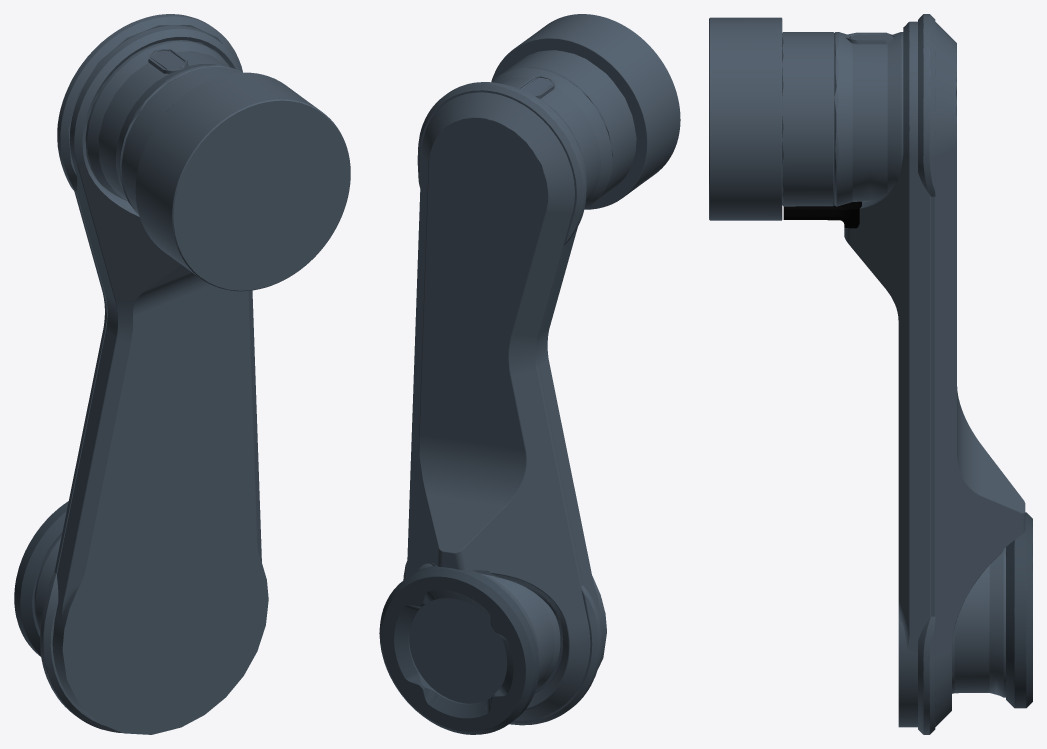
Rendered from hl_hipy.dae.
3 renders of one model, left to right at view 1: azimuth 30°, elevation 25°; view 2: azimuth 150°, elevation 25°; view 3: azimuth 270°, elevation 25°, orthographic. The views are drawn at different scales.
Visible parts, largest first — view 1: 移动面1, 倒角4, 切除-拉伸49 (×2), Mesh, 圆角25, 圆角2; view 2: Mesh, 圆角2, 倒角4, 切除-拉伸51, 切除-拉伸49 (×2), 圆角25, 移动面1; view 3: Mesh, 移动面1, 切除-拉伸49 (×2), 倒角4, 圆角25, 圆角2, 凸台-拉伸1.
Part boxes in pixels (x1,y1,x2,y2): 移动面1: [52, 25, 268, 734]; 倒角4: [135, 72, 350, 291]; 切除-拉伸49 (×2): [34, 40, 242, 631]; Mesh: [40, 14, 242, 732]; 圆角25: [121, 66, 241, 213]; 圆角2: [14, 501, 68, 656]; Mesh: [403, 82, 601, 725]; 圆角2: [379, 565, 539, 734]; 倒角4: [491, 14, 680, 209]; 切除-拉伸51: [409, 598, 507, 703]; 切除-拉伸49 (×2): [479, 67, 612, 689]; 圆角25: [499, 50, 636, 203]; 移动面1: [509, 85, 606, 668]; Mesh: [918, 14, 1025, 734]; 移动面1: [844, 21, 930, 727]; 切除-拉伸49 (×2): [834, 32, 1005, 697]; 倒角4: [709, 17, 782, 220]; 圆角25: [782, 32, 834, 206]; 圆角2: [1006, 512, 1032, 708]; 凸台-拉伸1: [783, 201, 861, 228].
Size of the model in its own units: 115 by 149 by 356.
